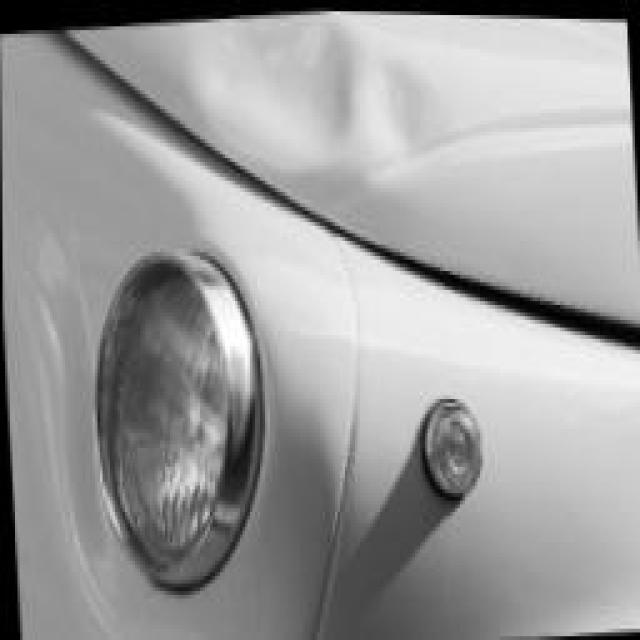Bonnet: (185, 4, 422, 217)
